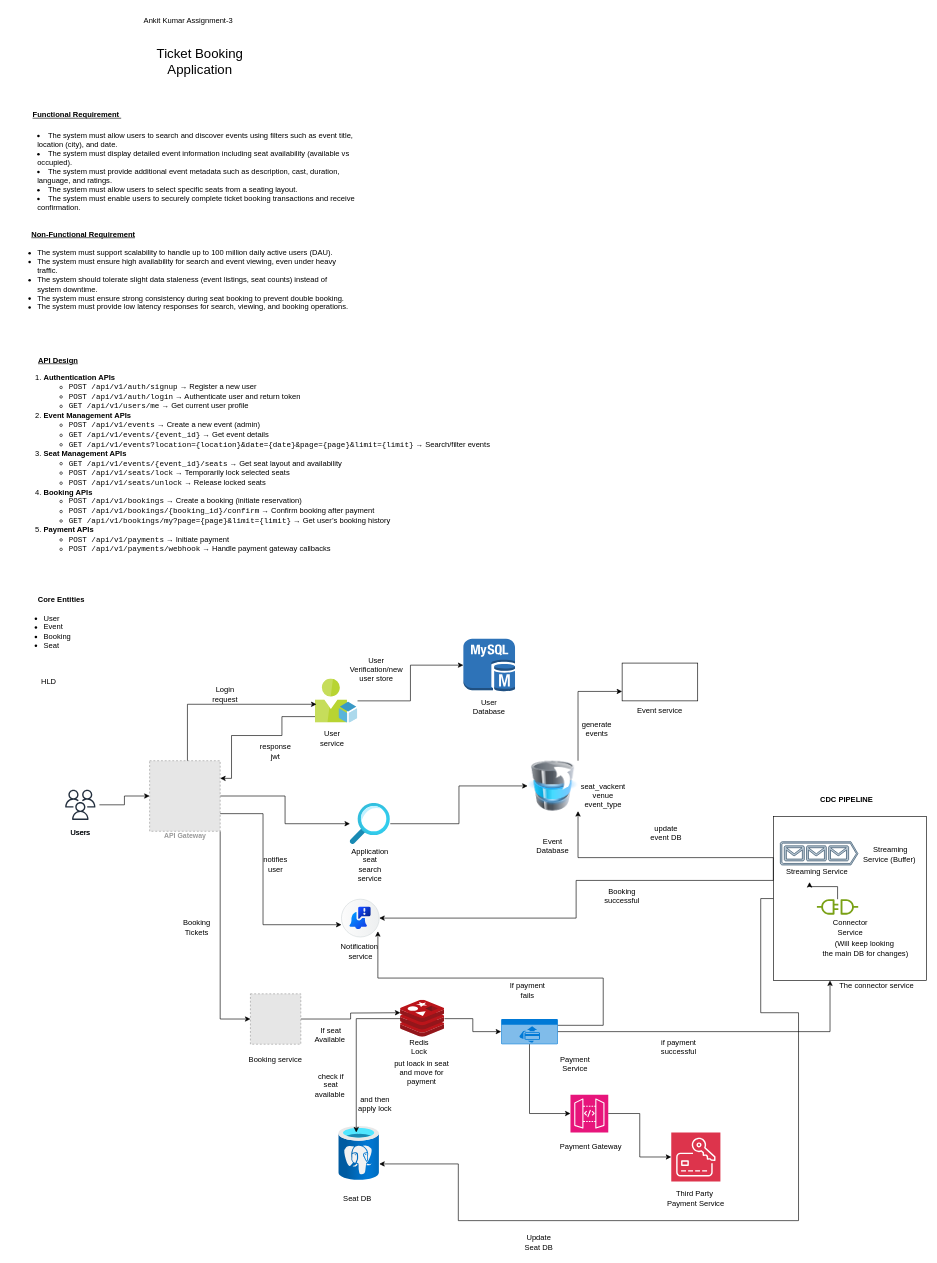
This 937x1263 diagram has some shape labels left out. Grey dashed boxes stand in for pictures. Here are the shapes that lost their labels. From the top down, the centre of each, then its label:
At point (659, 681): "Event Management team".
At point (529, 1031): "Payment".
